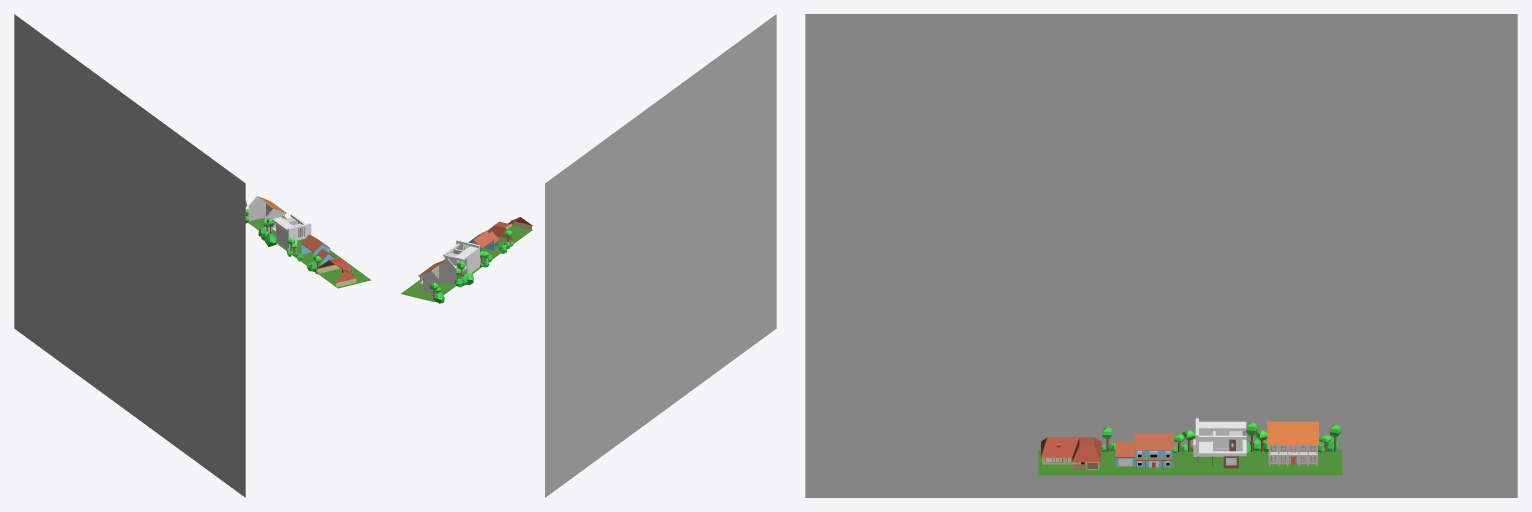
File: GameScene2.fbx
3 renders of one model, left to right at view 1: azimuth 30°, elevation 25°; view 2: azimuth 150°, elevation 25°; view 3: azimuth 270°, elevation 25°, orthographic. The views are drawn at different scales.
Parts seen in each view (by area): view 1: Background, Grass, Runner_House3, Runner_House 3, House, House_Runner2; view 2: Background, Grass, Runner_House3, Runner_House 3, House; view 3: Background, Grass, Runner_House 3, Runner_House3, House_Runner2, House.
Boxes of the visible parts, bbox=[...] form: Background: bbox=[14, 14, 245, 497]; Grass: bbox=[245, 214, 370, 288]; Runner_House3: bbox=[272, 214, 311, 250]; Runner_House 3: bbox=[247, 196, 286, 232]; House: bbox=[316, 257, 356, 287]; House_Runner2: bbox=[301, 234, 335, 265]; Background: bbox=[545, 14, 776, 497]; Grass: bbox=[401, 221, 532, 301]; Runner_House3: bbox=[443, 240, 480, 274]; Runner_House 3: bbox=[418, 258, 457, 294]; House: bbox=[488, 217, 532, 242]; Background: bbox=[805, 14, 1517, 497]; Grass: bbox=[1038, 450, 1342, 475]; Runner_House 3: bbox=[1267, 421, 1318, 466]; Runner_House3: bbox=[1192, 418, 1246, 468]; House_Runner2: bbox=[1115, 433, 1173, 468]; House: bbox=[1041, 437, 1101, 469].
Bounding box in the file's own units: 15052 × 22446 × 29928.
